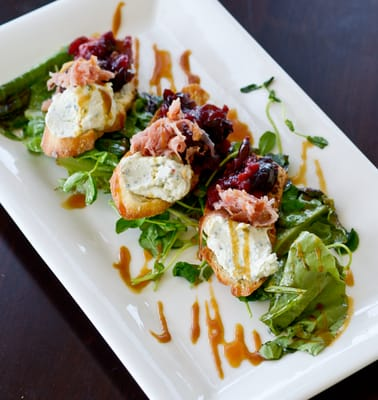curry: (0, 1, 378, 400)
